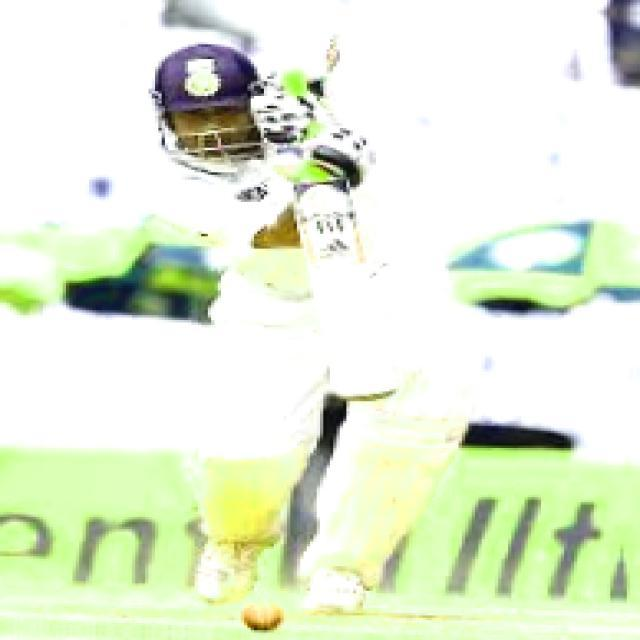bat: (292, 184, 402, 404)
toe: (335, 391, 398, 402)
